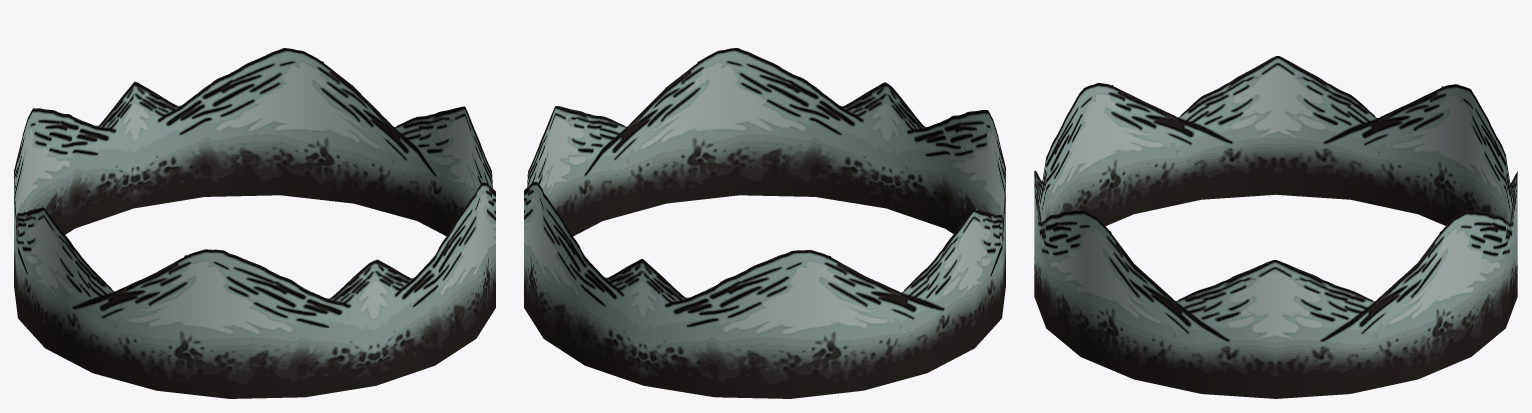
The model's file is background cylinder.fbx.
3 renders of one model, left to right at view 1: azimuth 30°, elevation 25°; view 2: azimuth 150°, elevation 25°; view 3: azimuth 270°, elevation 25°, orthographic.
Visible parts, largest first — view 1: pCylinder1; view 2: pCylinder1; view 3: pCylinder1.
Boxes of the visible parts, box(x1,y1,x2,y2) form: pCylinder1: box(14, 48, 495, 398); pCylinder1: box(524, 48, 1005, 398); pCylinder1: box(1034, 56, 1517, 398).
Bounding box in the file's own units: 474 × 196 × 474.
